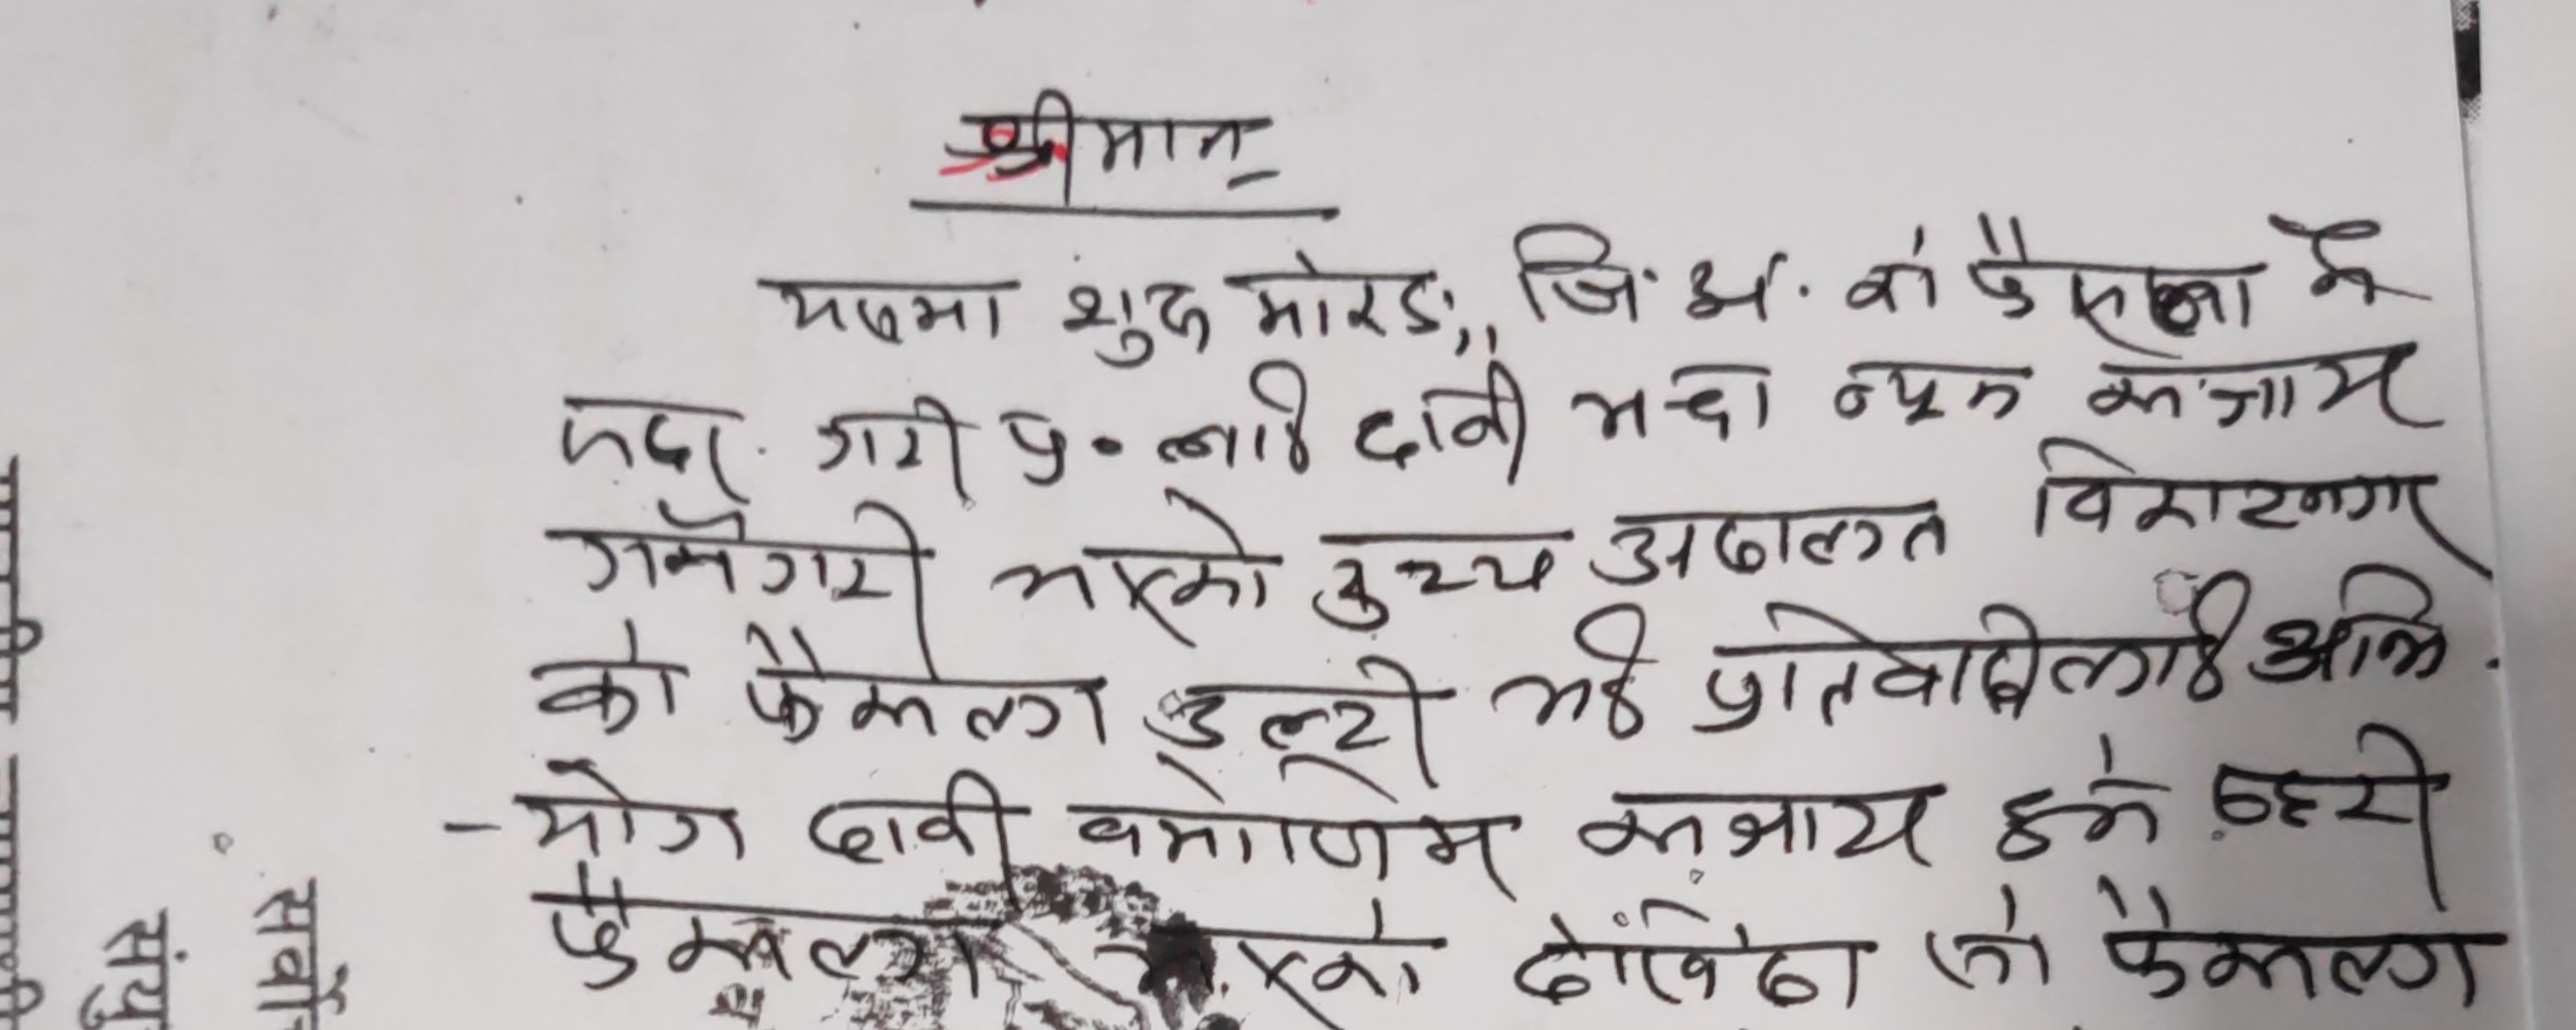text: (1687, 583, 2254, 734), (1060, 751, 1511, 897), (2088, 871, 2499, 1023), (529, 858, 986, 994), (720, 606, 1119, 757), (1838, 210, 2265, 333), (2011, 437, 2454, 550), (1503, 890, 1878, 1020), (987, 486, 1290, 644), (555, 499, 936, 619), (936, 80, 1293, 200), (2065, 327, 2438, 430), (1584, 488, 1952, 588), (997, 366, 1313, 483), (1506, 207, 1784, 333), (1153, 637, 1441, 757), (2208, 716, 2449, 854), (2242, 560, 2461, 708), (1247, 246, 1506, 366), (509, 744, 749, 871), (1577, 782, 1943, 864), (1308, 517, 1564, 631), (1480, 598, 1661, 747), (1994, 721, 2178, 867), (1347, 343, 1538, 478), (1571, 347, 1791, 457), (803, 764, 1017, 874), (746, 266, 1014, 347), (545, 381, 743, 488), (526, 614, 683, 741), (1053, 266, 1216, 376), (1824, 353, 2040, 434), (1914, 884, 2065, 997), (810, 394, 973, 491)
